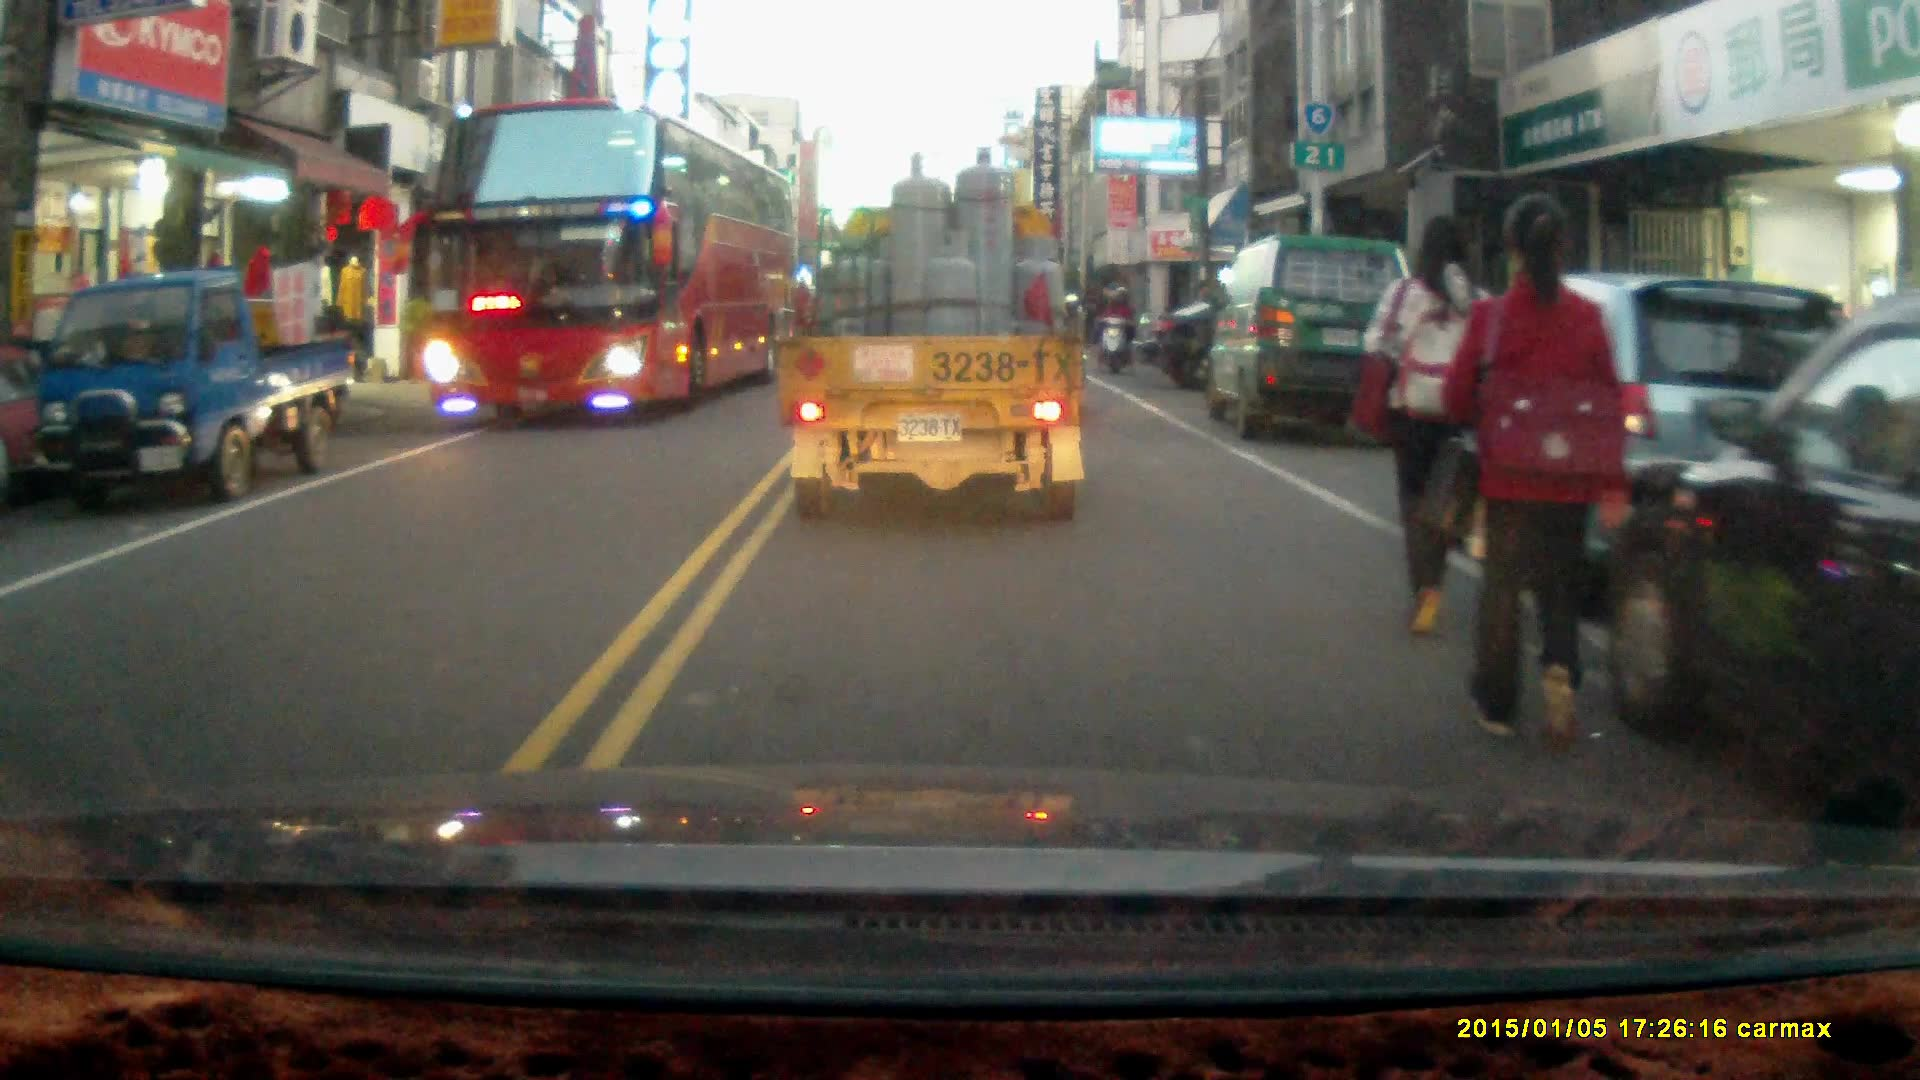pedestrian: (1441, 190, 1629, 749), (1366, 202, 1498, 640)
rider: (1093, 284, 1135, 374)
vehicle: (1589, 338, 1920, 841), (417, 100, 797, 428), (779, 144, 1092, 524), (16, 272, 343, 505), (1207, 233, 1418, 435), (1132, 300, 1424, 397)
